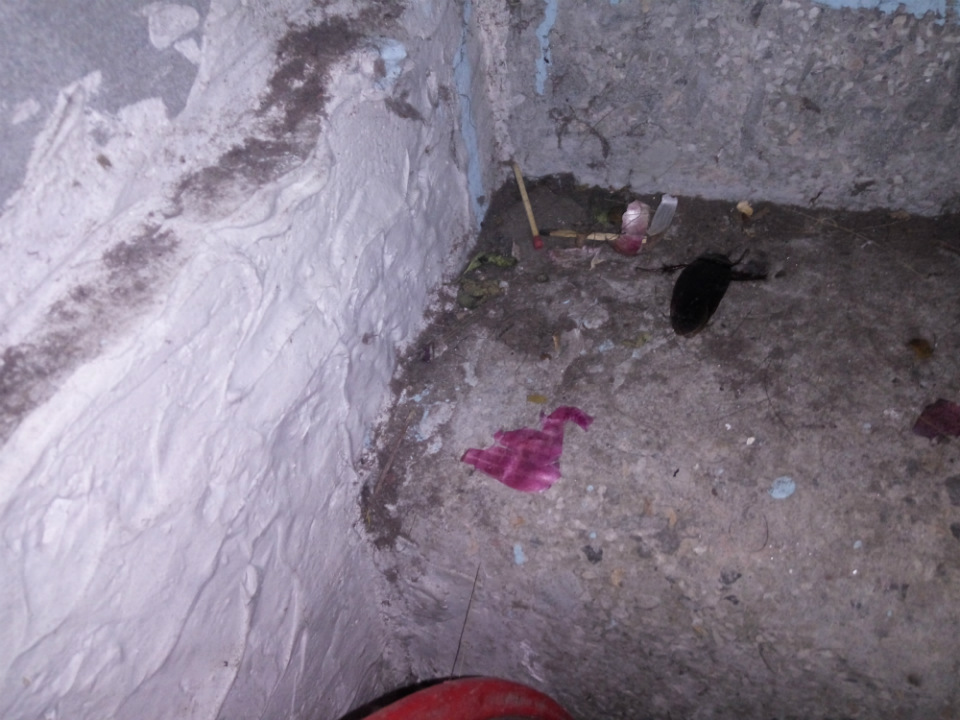cockroach: (647, 212, 776, 363)
